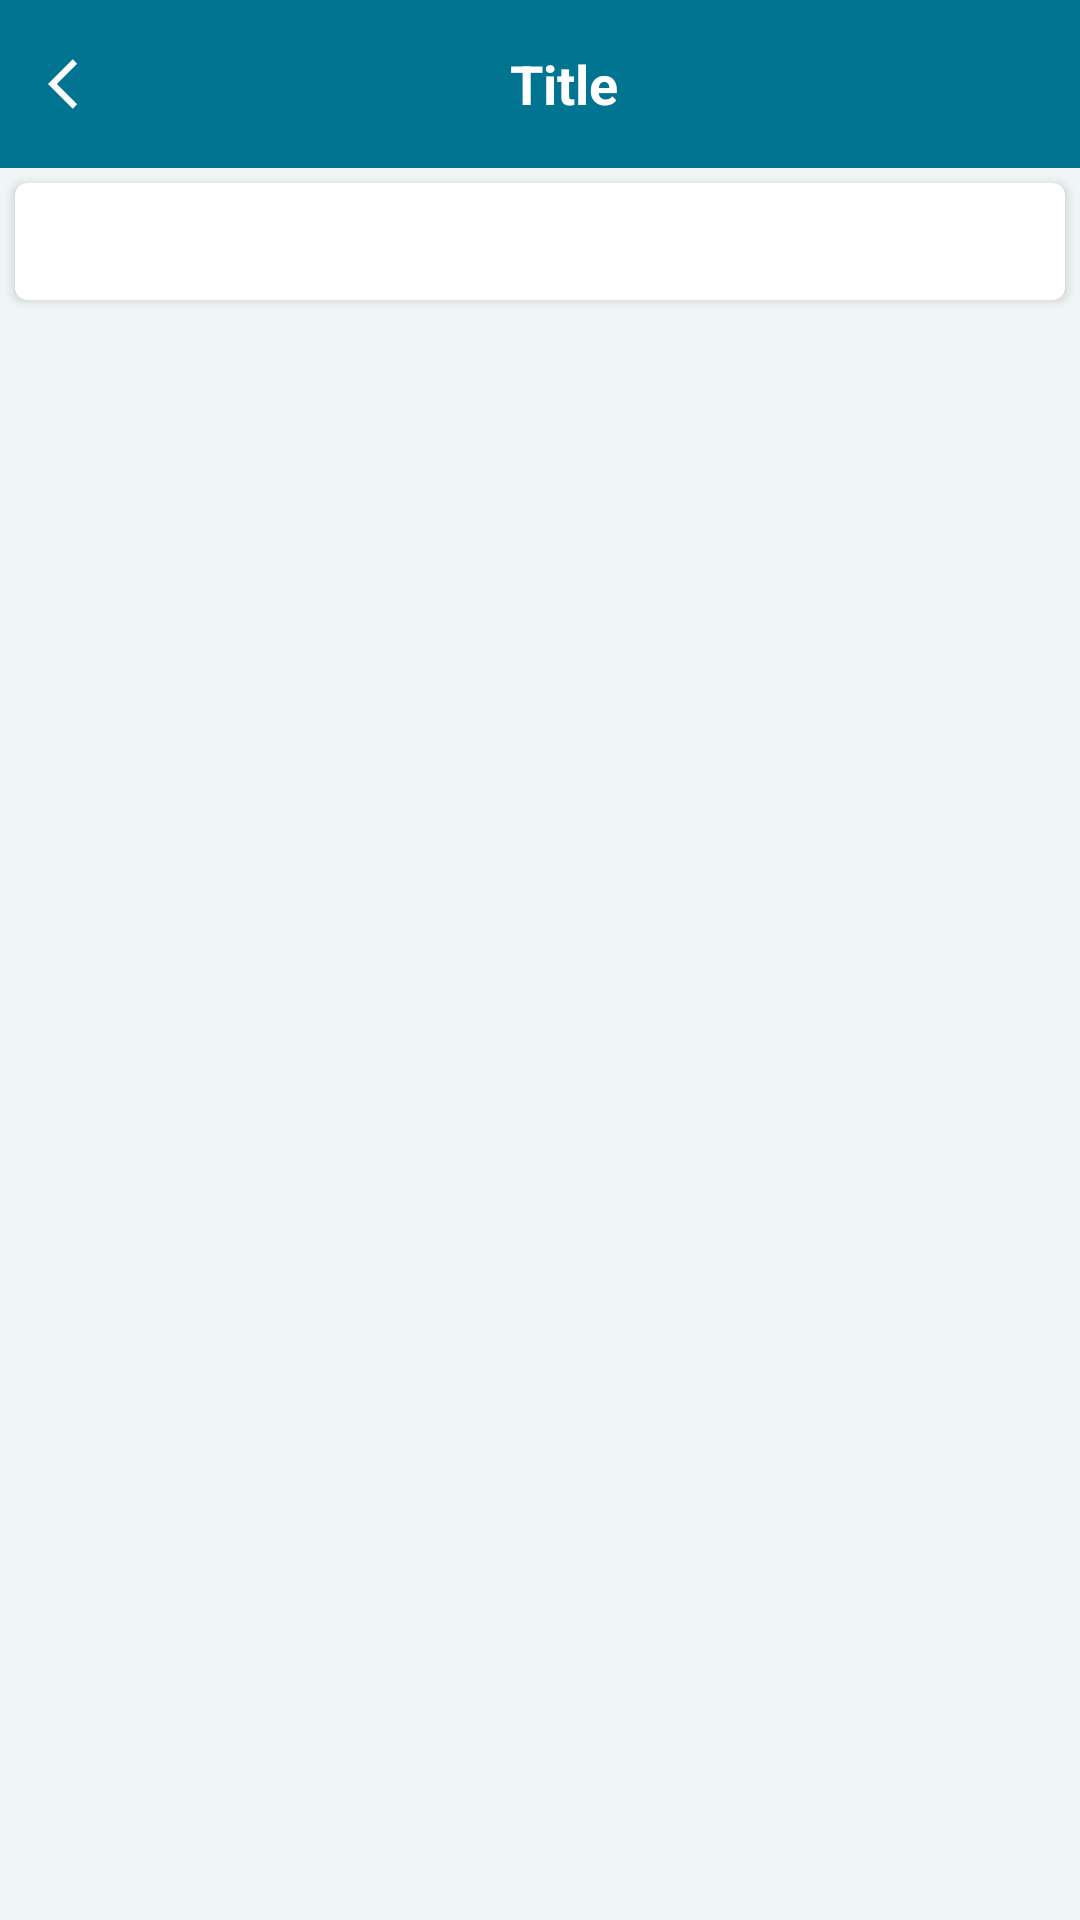

Icons on this 1080*1920 Android screen, each with the point to tap as (x,y):
arrow back: (62,84)
